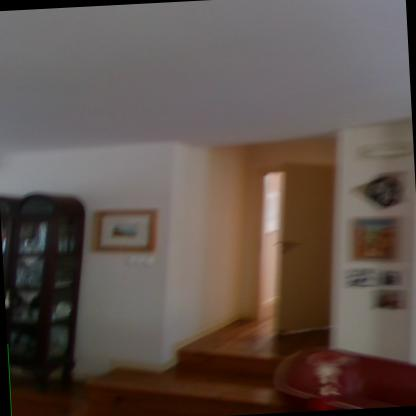semi: (238, 144, 350, 353)
